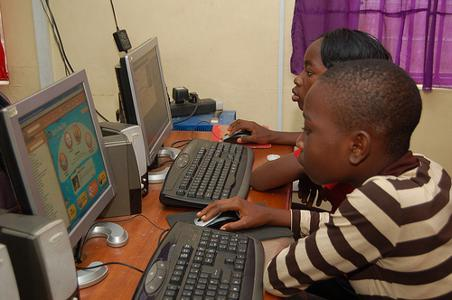person: (198, 57, 452, 300)
